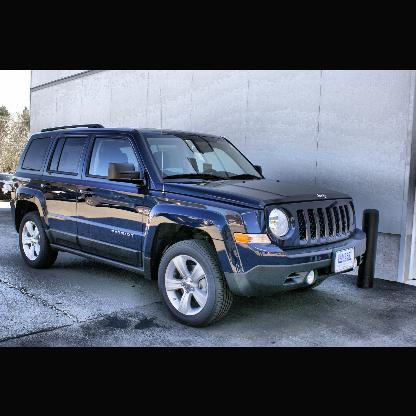Jeep Patriot SUV 2012: (12, 122, 371, 327)
